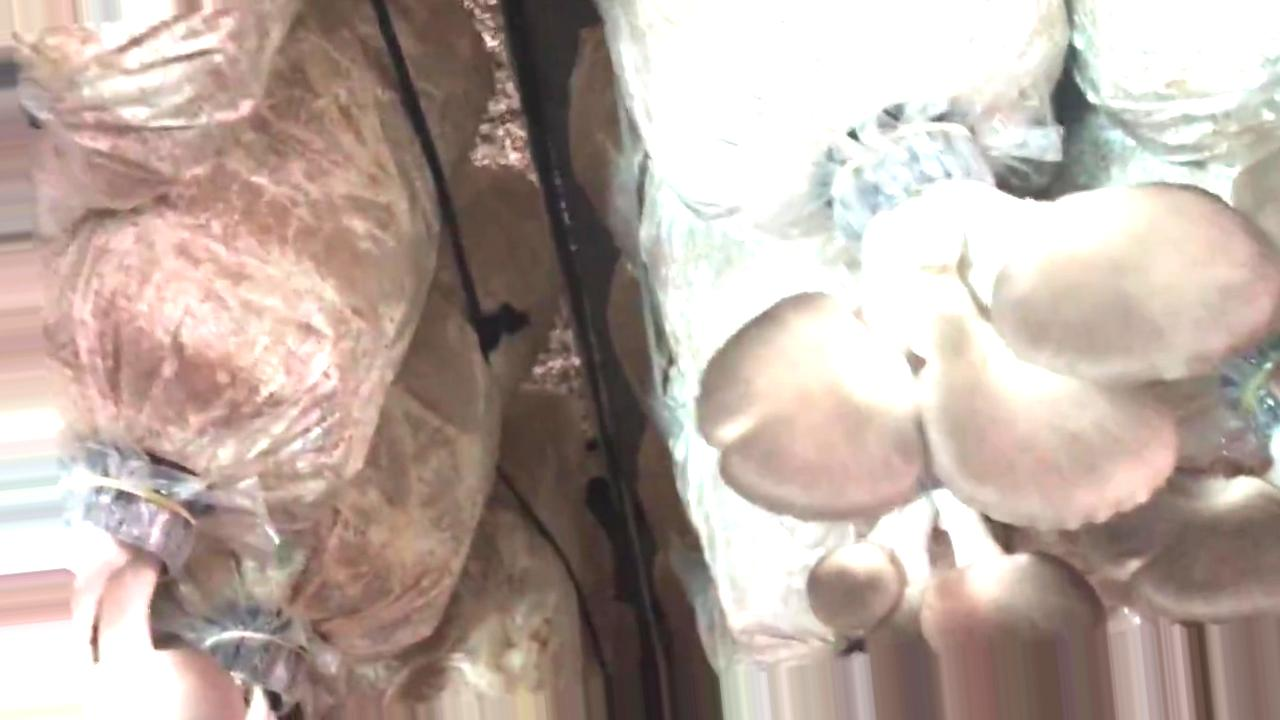nam: (698, 124, 1280, 529), (805, 489, 1111, 720), (1, 441, 243, 718), (1082, 473, 1280, 620)
